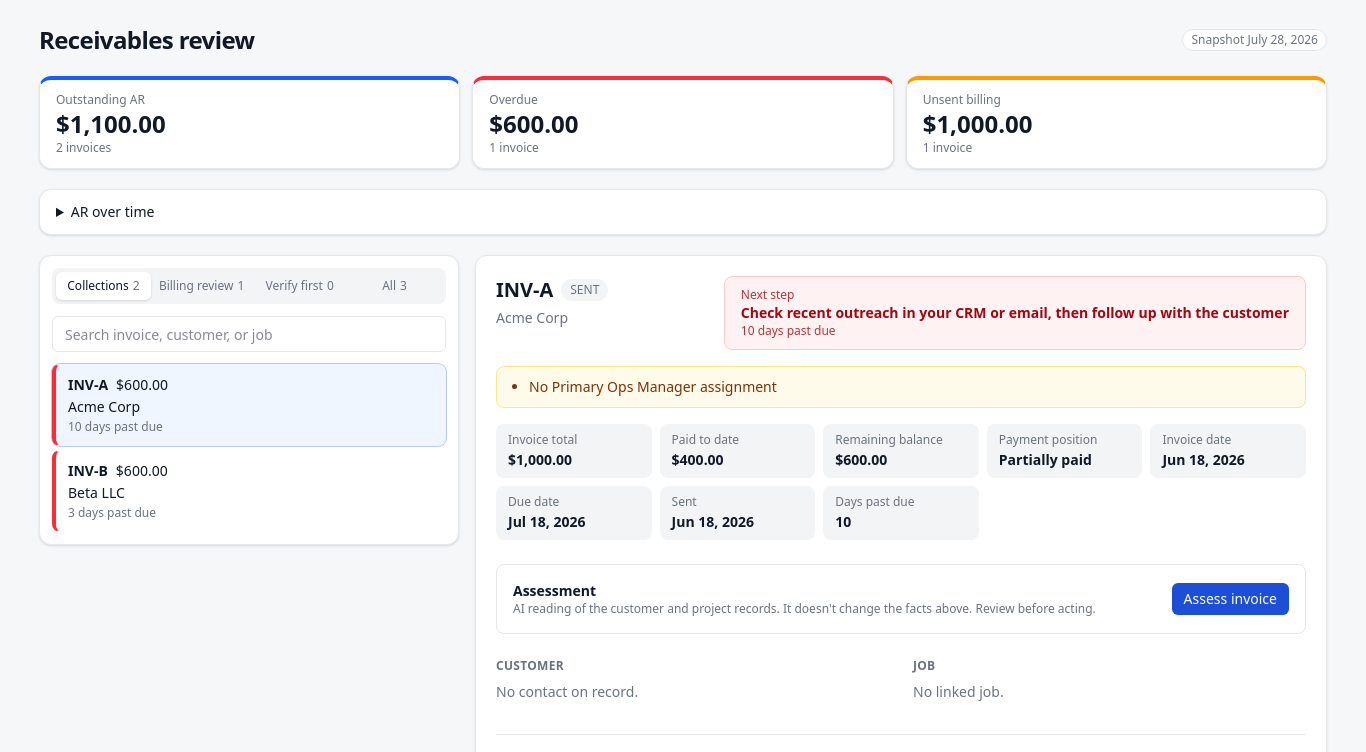
Test case: search with no matches shows an empty state
In the search field named "Search invoices": [249, 334] box [52,316,446,352], type "zzz"
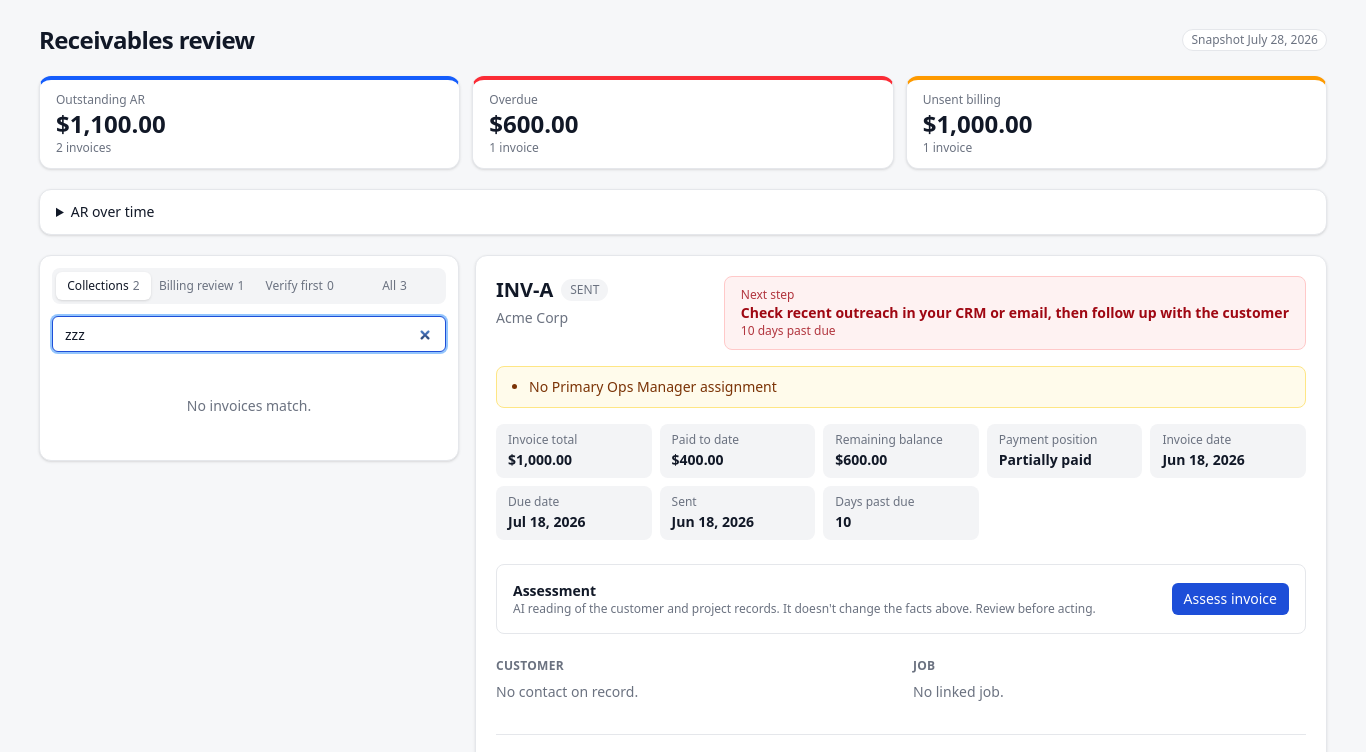
Check: the text "No invoices match." is shown, box [187,396,311,415]
